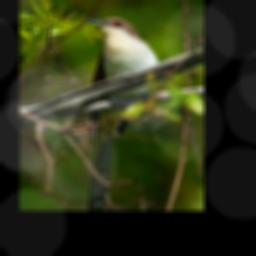Cuckoo: (82, 15, 162, 210)
